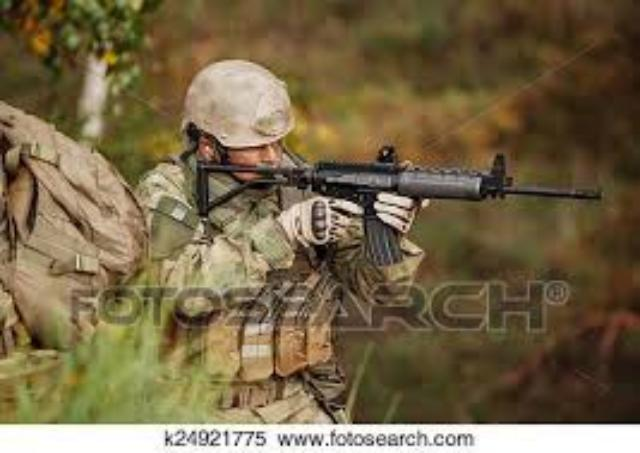other: (126, 56, 424, 417)
